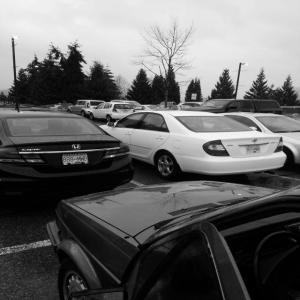Plate: (62, 153, 88, 165), (246, 145, 261, 154)
